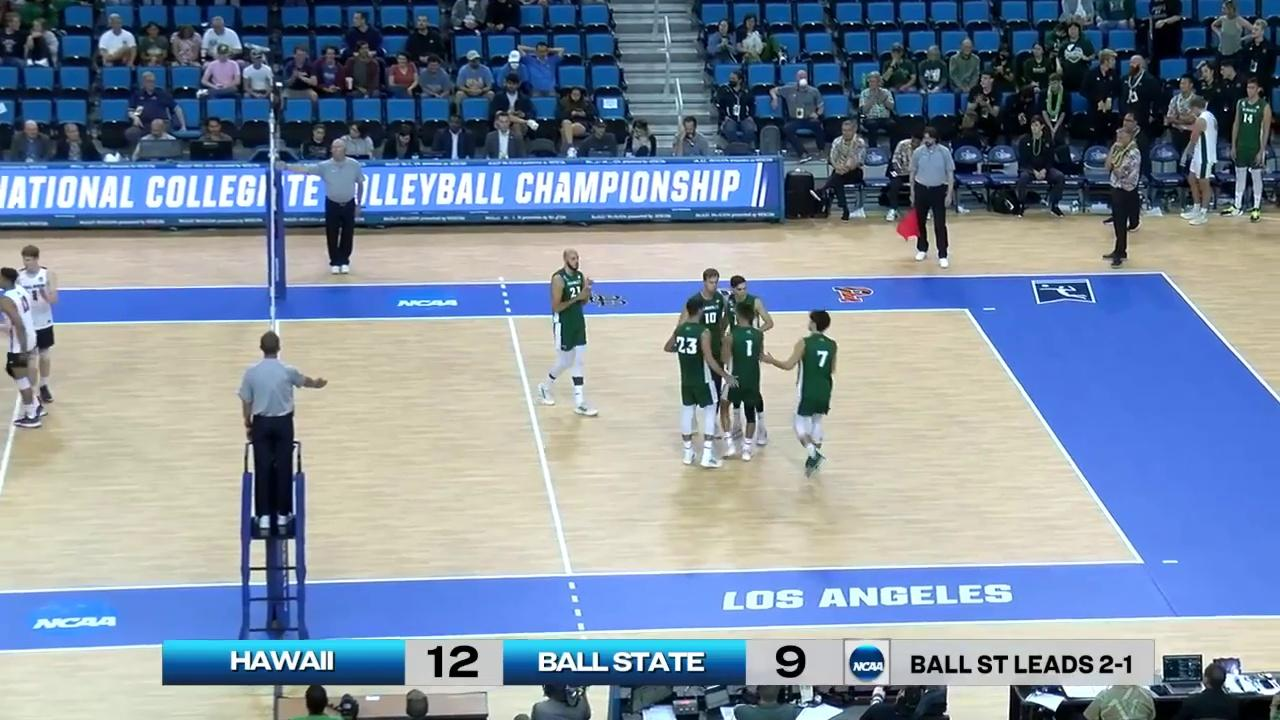player: (5, 246, 60, 425), (539, 249, 595, 415), (789, 309, 838, 479), (725, 274, 773, 444), (676, 297, 722, 468), (689, 269, 735, 440), (716, 304, 758, 462), (0, 269, 37, 431)
refree: (235, 333, 319, 524), (309, 140, 364, 276), (904, 130, 956, 264)
